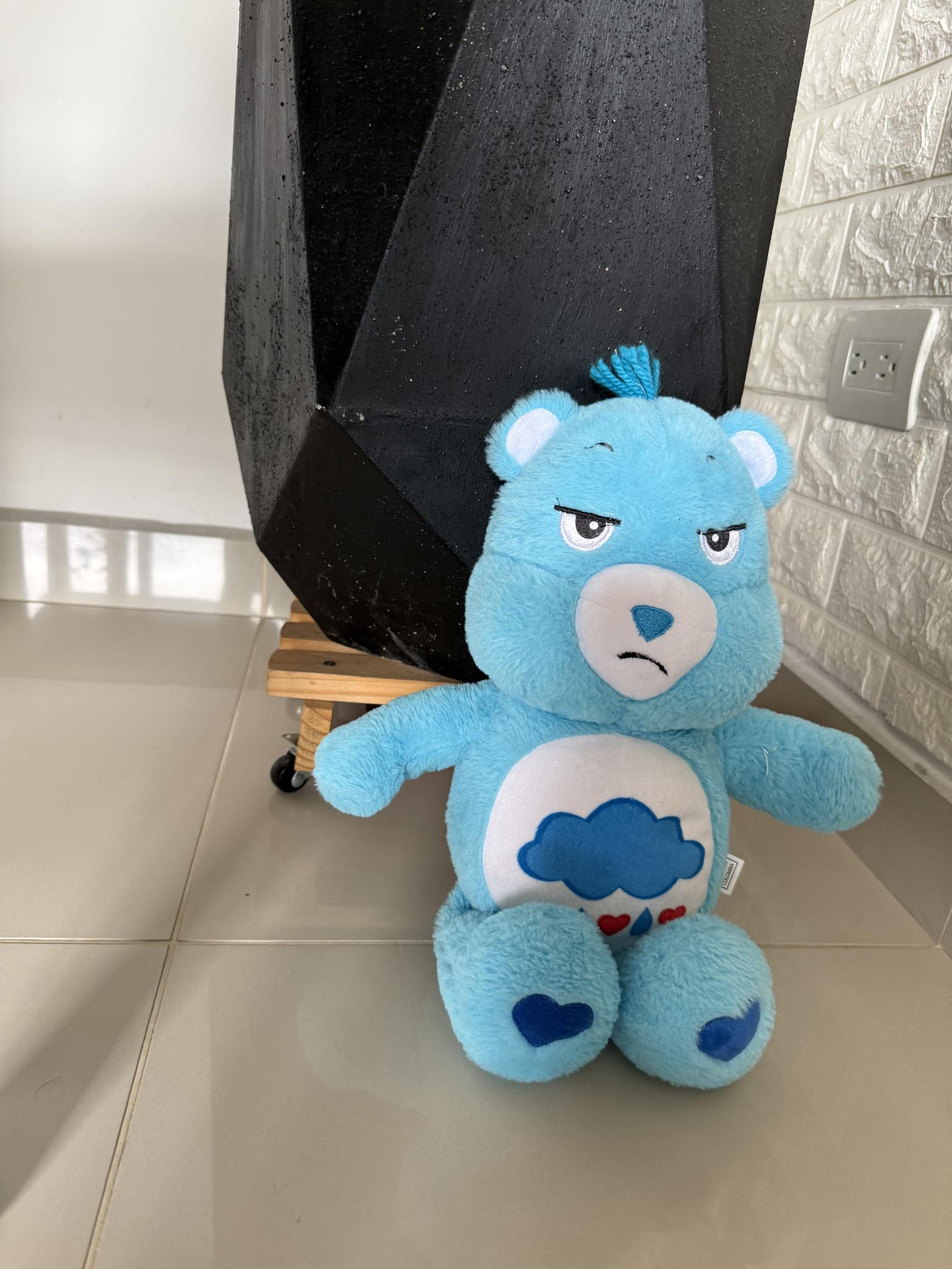peluche_Juan Jose: (311, 341, 881, 1097)
